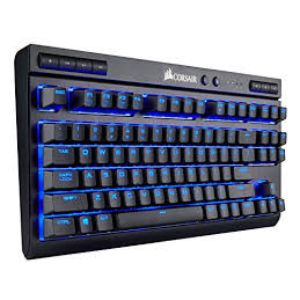keyboard: (9, 43, 291, 255)
